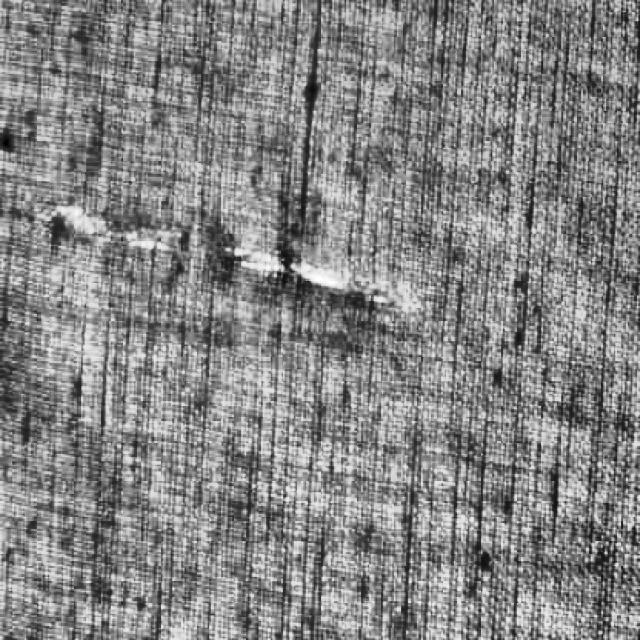thread_error: (29, 191, 432, 326)
